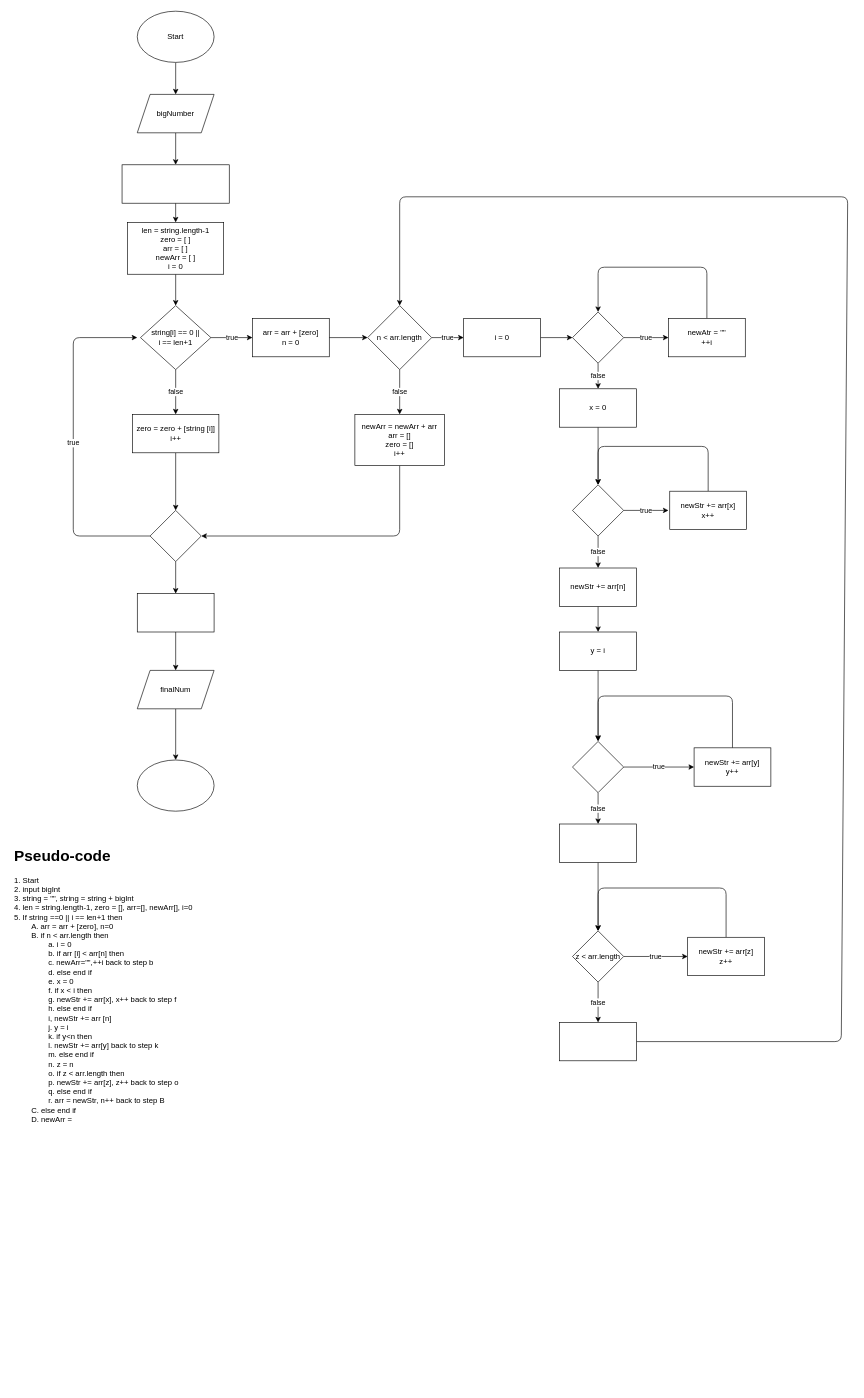
Image size: 864x1398. Some labels were removed from this diagram. The shapes that lost their labels are listed below. From the top down, each one's box as (x1, y1, x2, y2) in pixels, then its label:
(121, 164, 229, 203): string = "" string = string + bigNumber
(572, 311, 624, 363): arr[i] < arr[n]
(572, 484, 624, 536): x < i
(149, 510, 201, 562): i<=len+1
(137, 593, 214, 632): finalNum = newArr*1
(137, 759, 214, 811): END
(572, 741, 624, 793): y < n
(559, 823, 636, 862): z = n
(559, 1022, 636, 1061): arr = newStr n++
